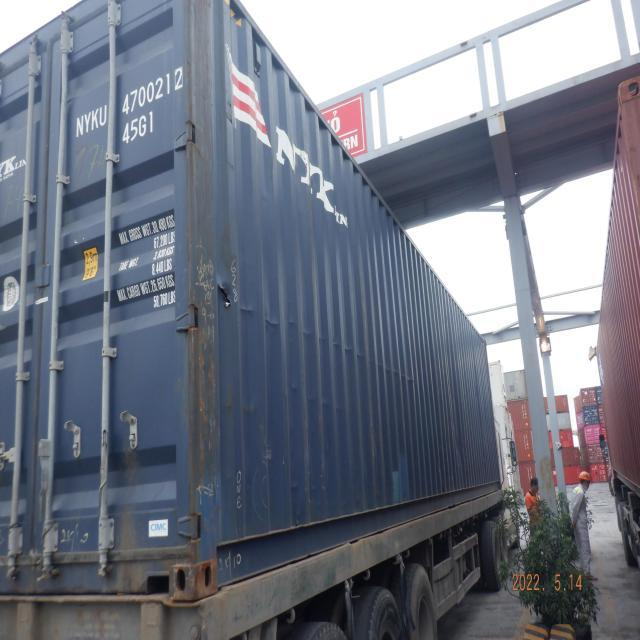hole: (214, 280, 235, 316)
